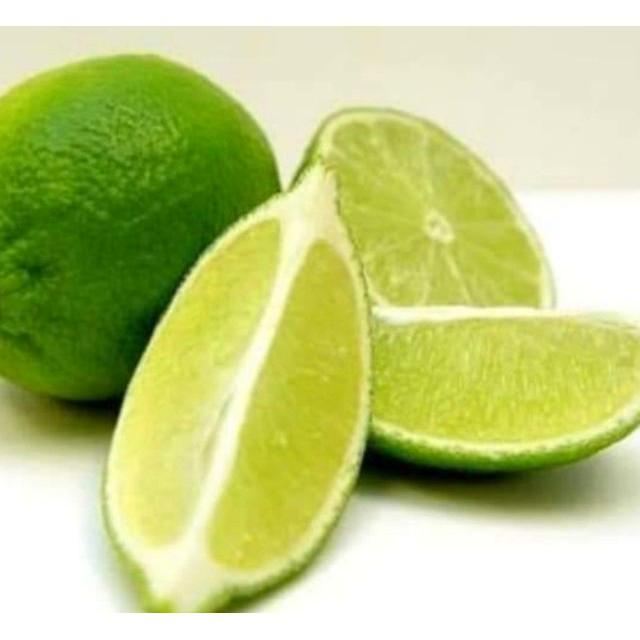lime: (0, 37, 292, 411)
